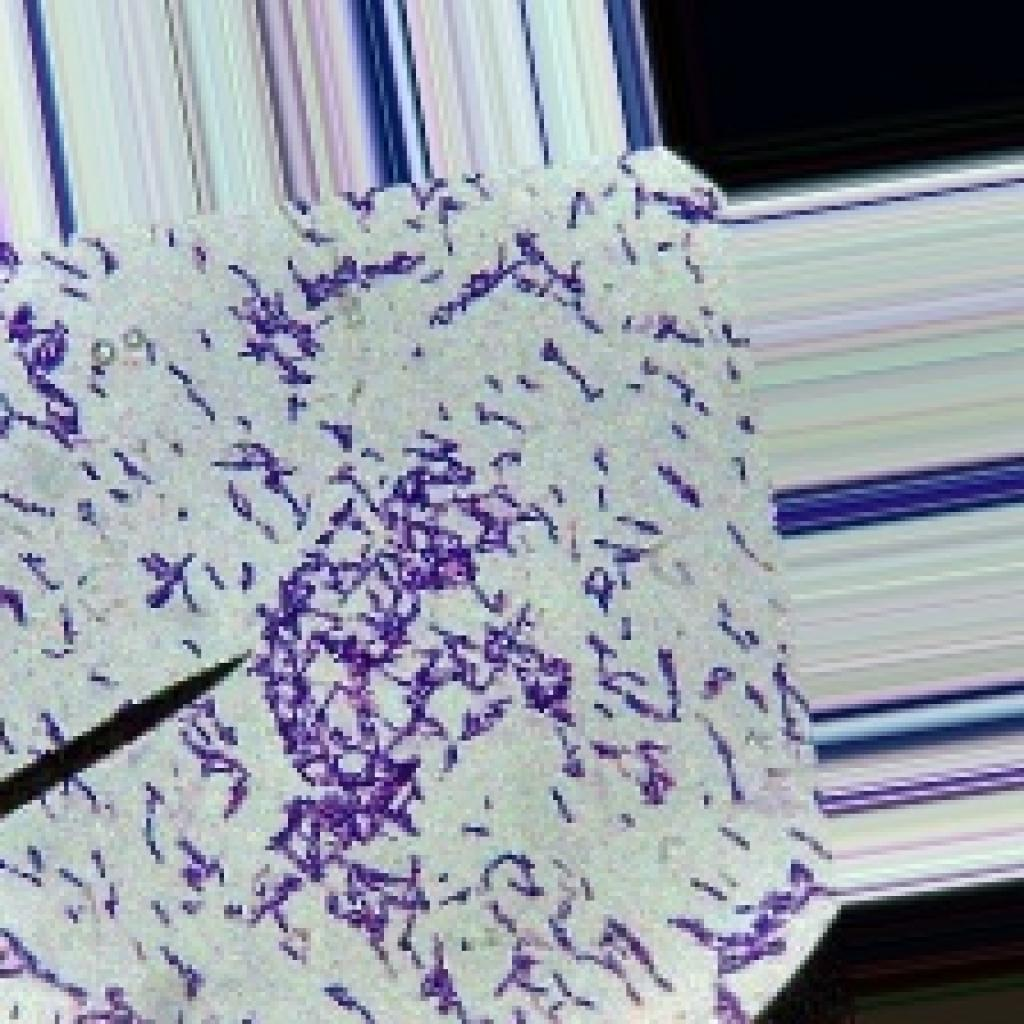Sprialbacteria: (0, 142, 841, 1019)
